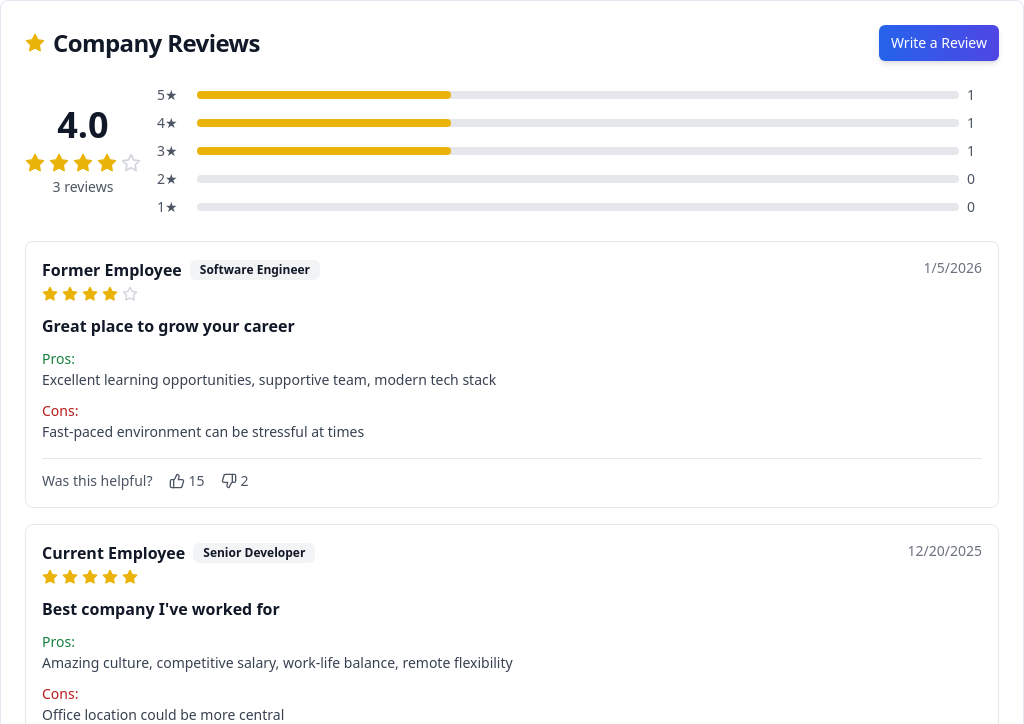
CompanyReviewsSection › should show review form when "Write a Review" is clicked
This screenshot has width=1024, height=724.
Click the button "Write a Review" at coordinates (939, 43), box 879,25 -> 999,61
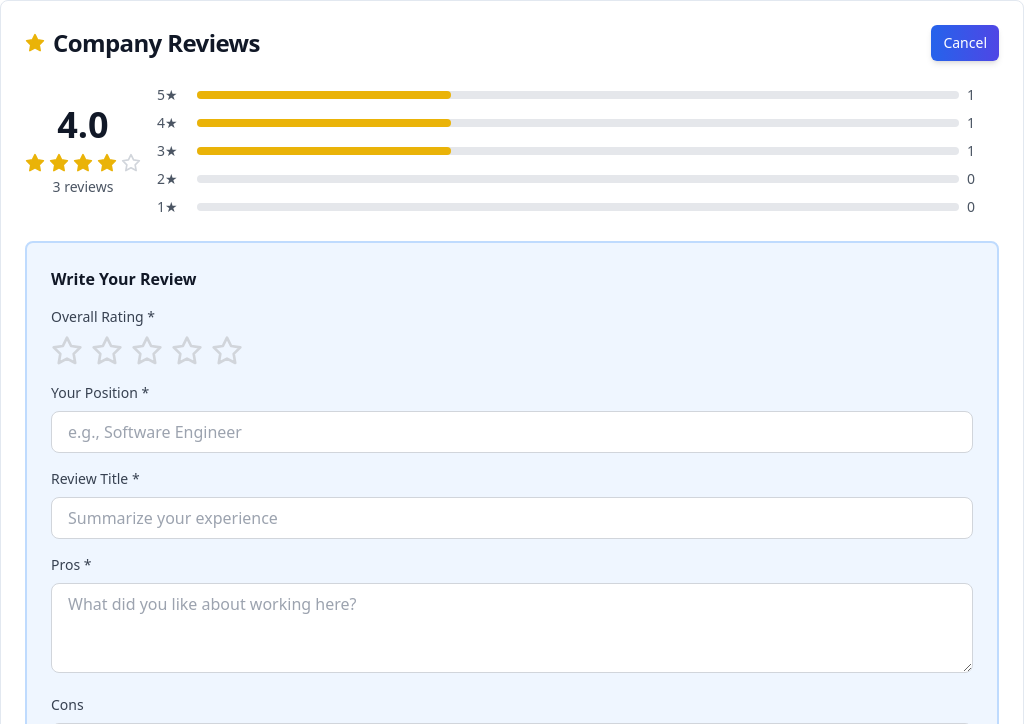
Now the heading "Write Your Review" is shown, box 51,268 -> 197,290
Now the field with placeholder "e.g., Software Engineer" is shown, box 51,411 -> 973,453
